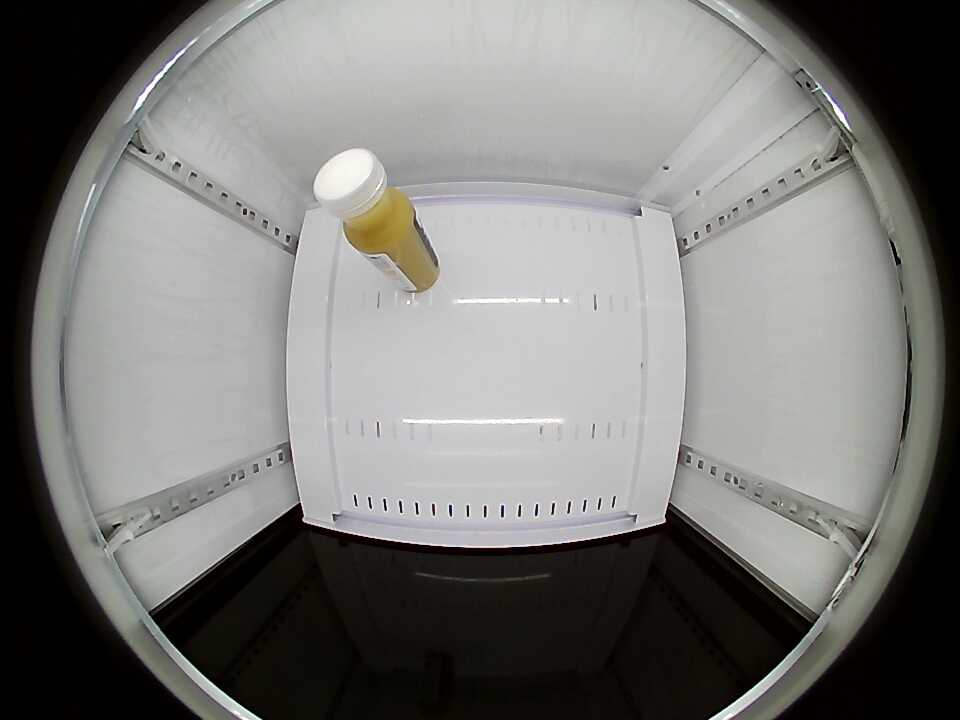nfc: (314, 149, 419, 254)
